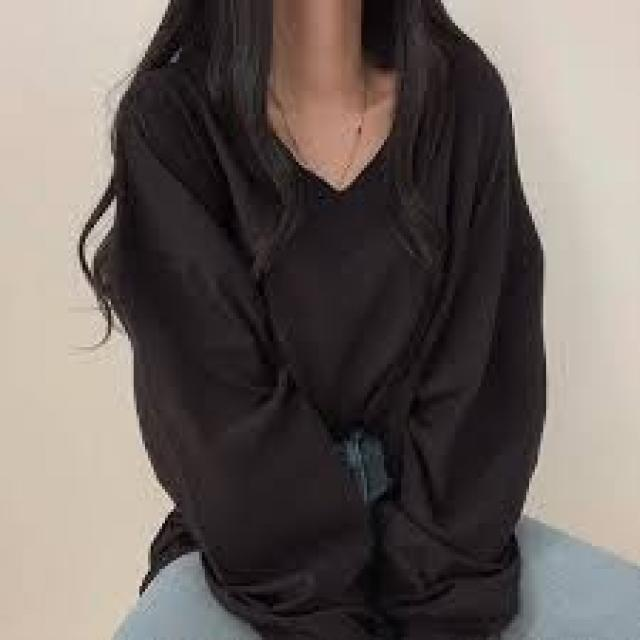plain: (58, 41, 610, 640)
